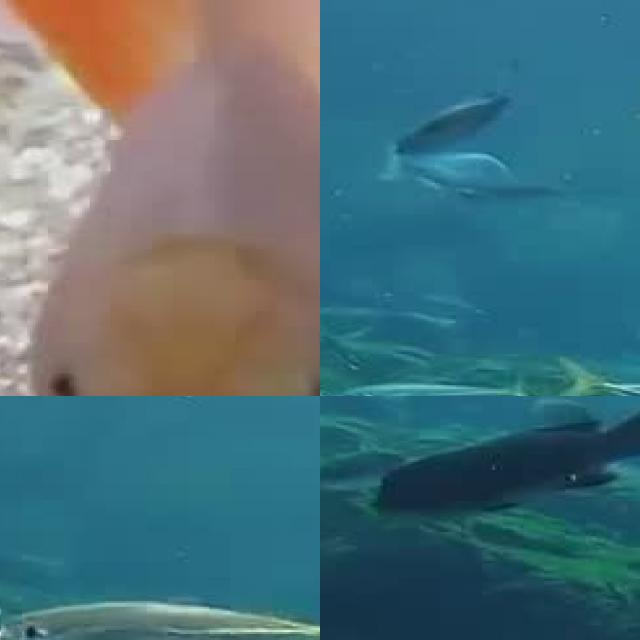fish: (0, 0, 320, 396), (0, 581, 320, 640)
